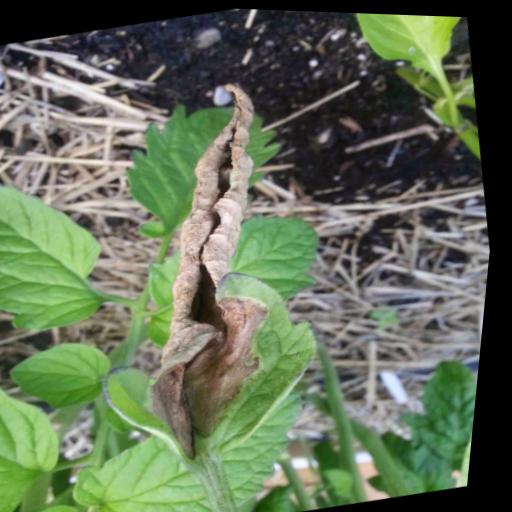Healthy: (0, 163, 128, 345), (8, 330, 127, 417)
Late Blight: (60, 68, 362, 491)
